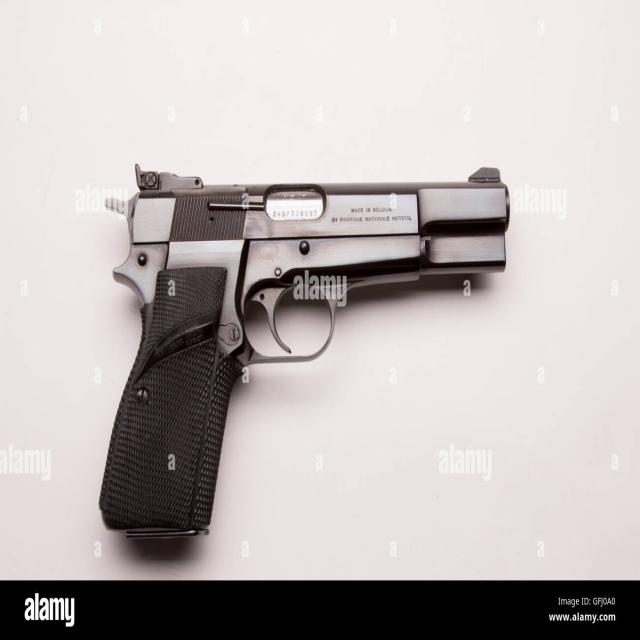HandGun: (100, 167, 511, 545)
